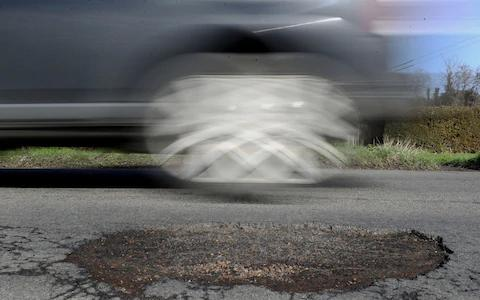Pothole: (34, 208, 462, 299)
